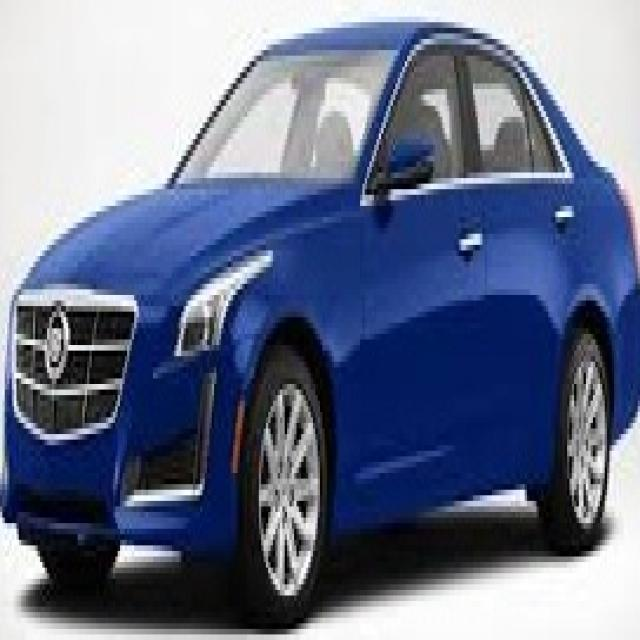blue: (16, 12, 640, 580)
